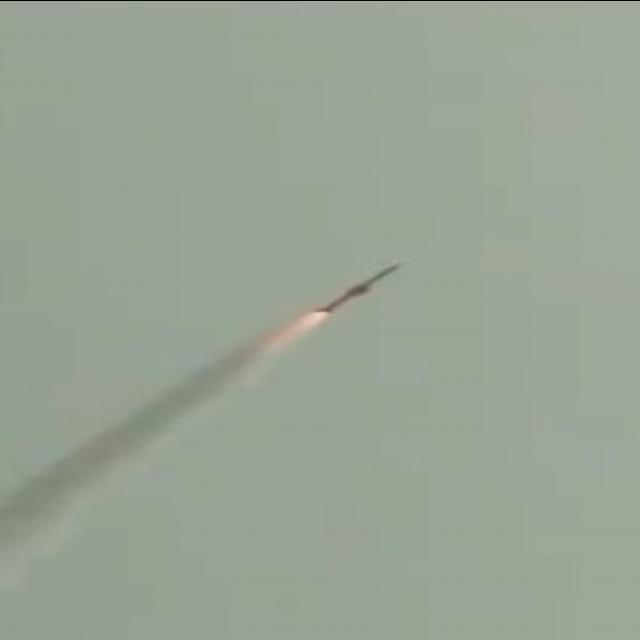missile: (323, 248, 412, 318)
